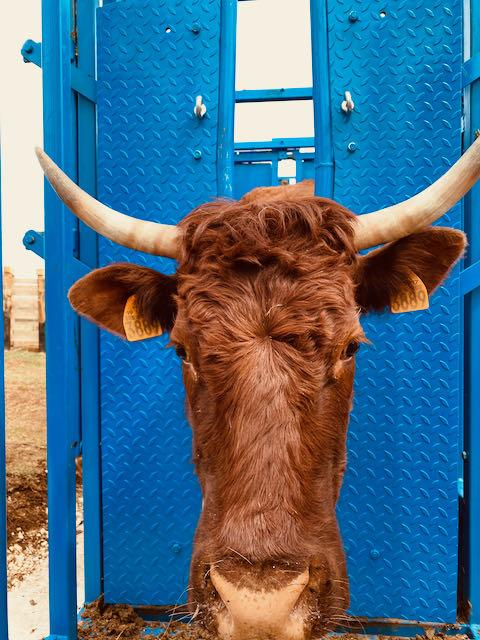muzzles: (178, 550, 346, 639)
